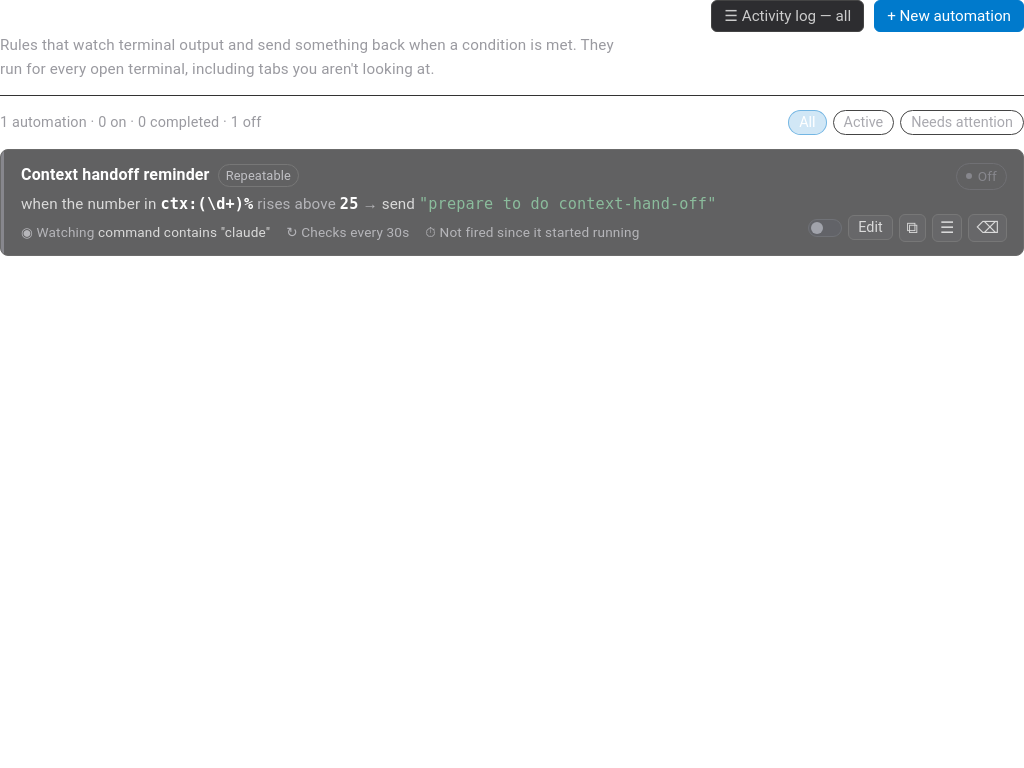
Scenario: the editor, mounted › renders a backdrop while still declaring itself non-modal
Click the button with class "au-btn" showing "Edit": (870, 228) [848, 215, 893, 240]
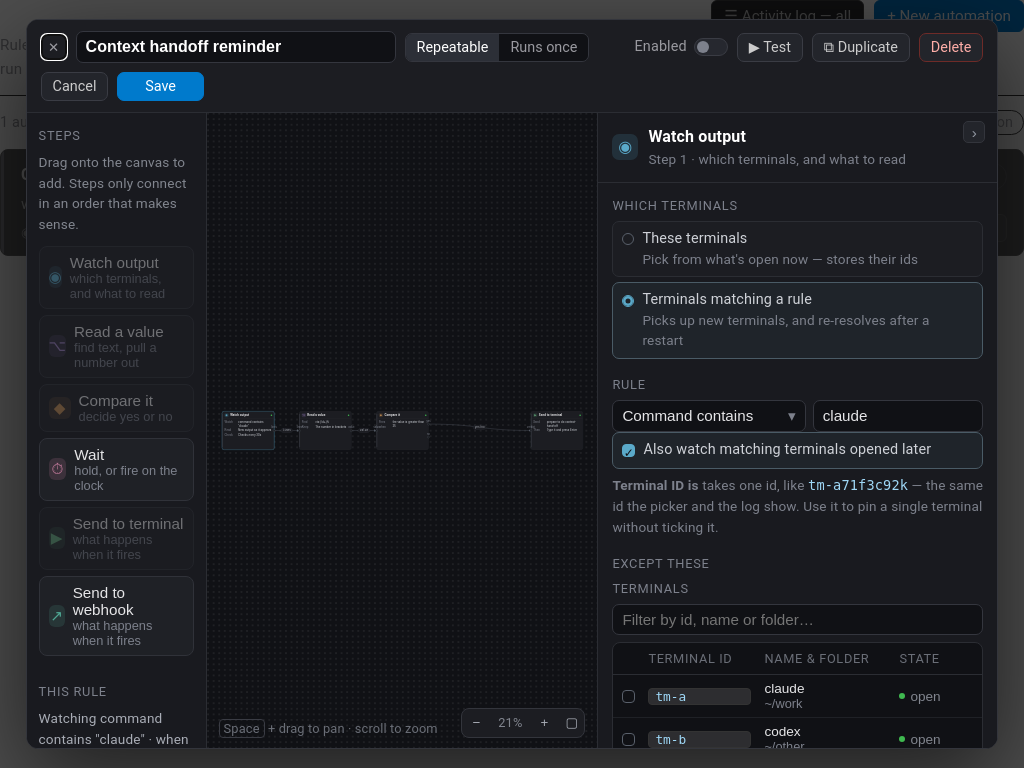
Result: the element with class "au-scrim" is shown
